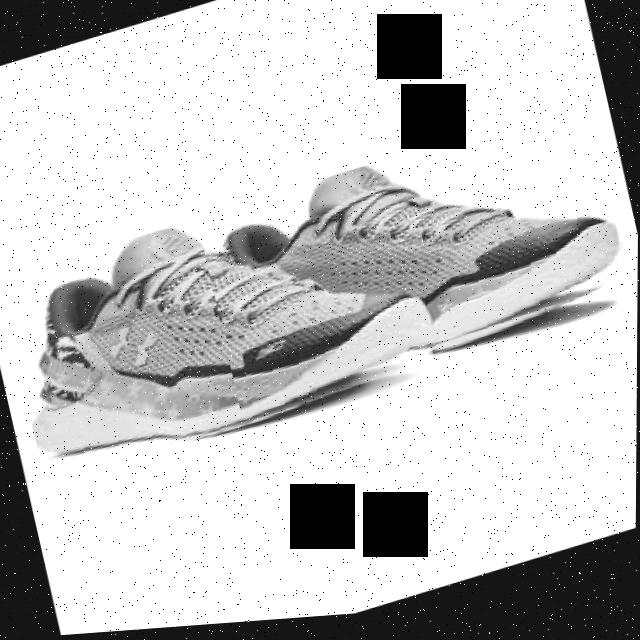shoe: (0, 162, 444, 493), (195, 104, 635, 418)
